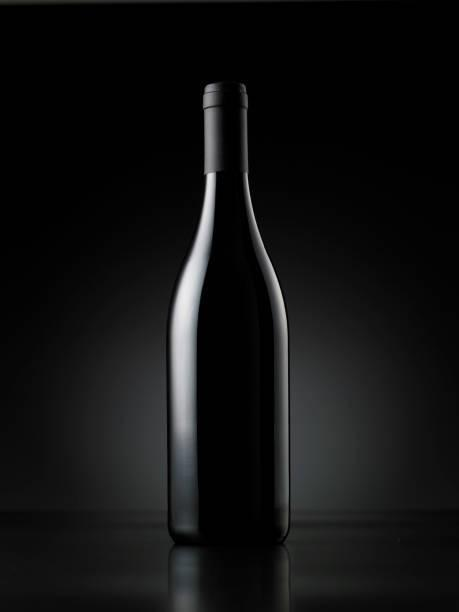bottle-glass: (160, 75, 295, 549)
